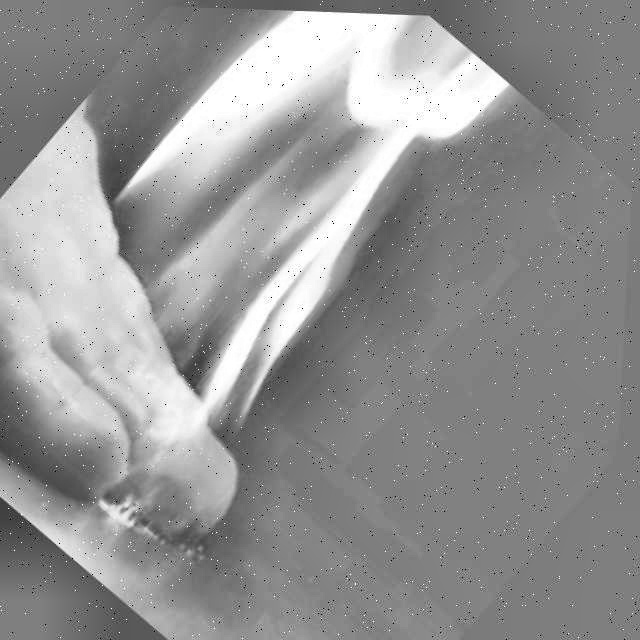Fire: (9, 1, 530, 462)
